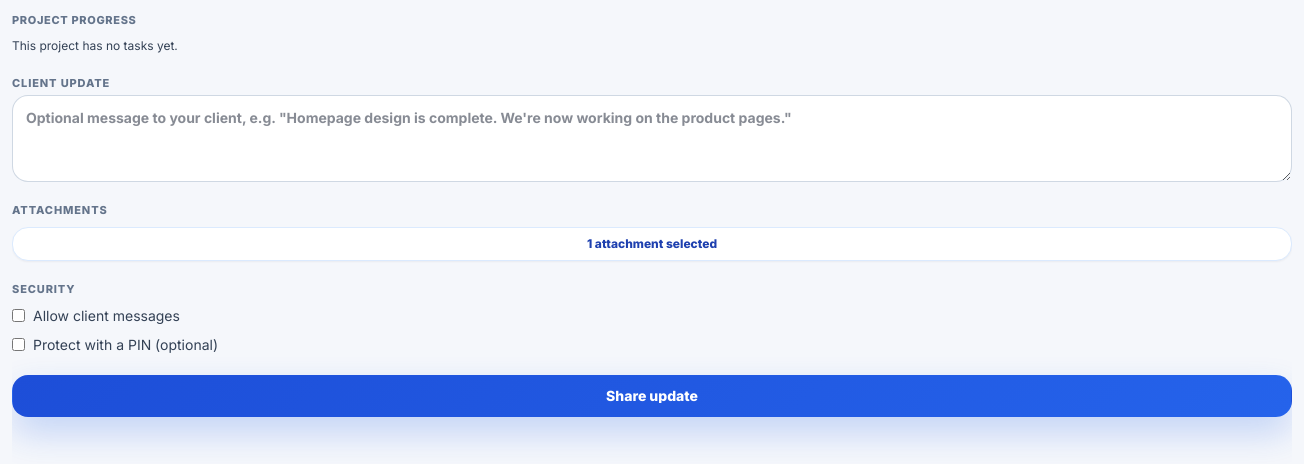
Scenario: ShareLinkQuickShare - Attachments › pre-checks Resources that are already mapped
Click the button "1 attachment selected" at (652, 244), box left=12, top=226, right=1292, bottom=260
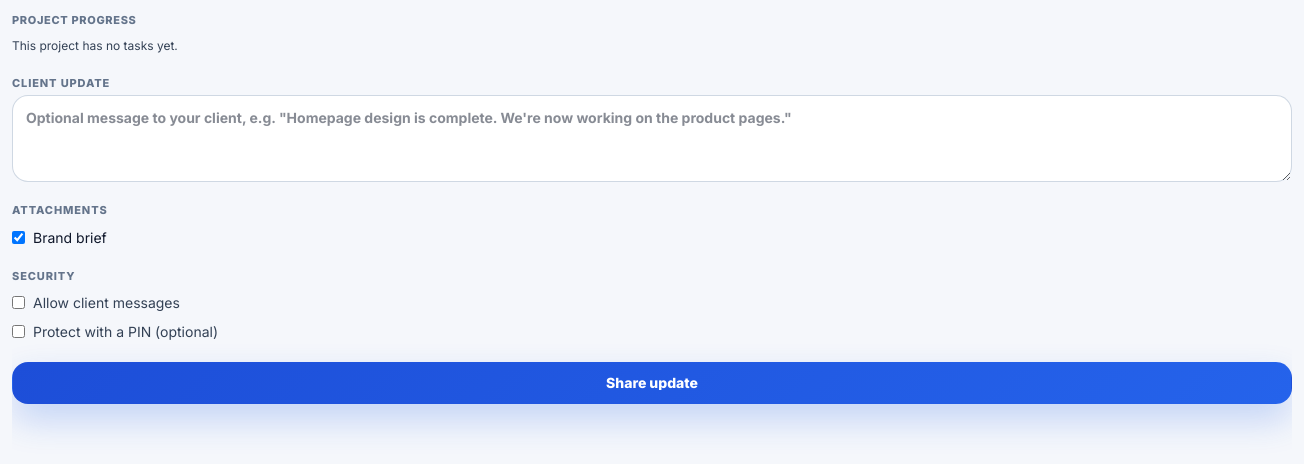
Expected: the checkbox labelled "Brand brief" is checked, left=12, top=230, right=25, bottom=244
